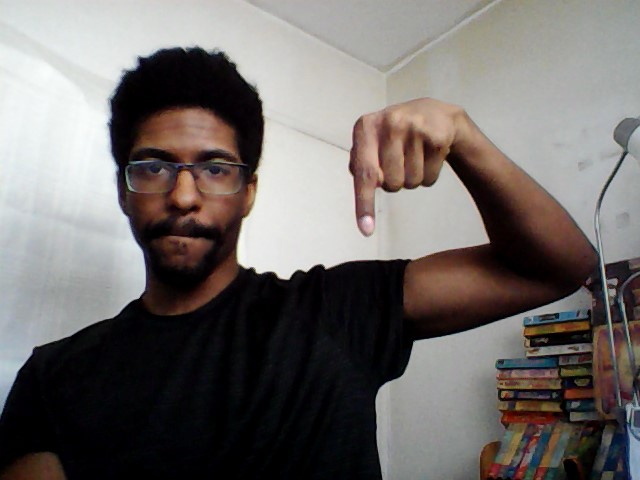q: (342, 91, 467, 244)
